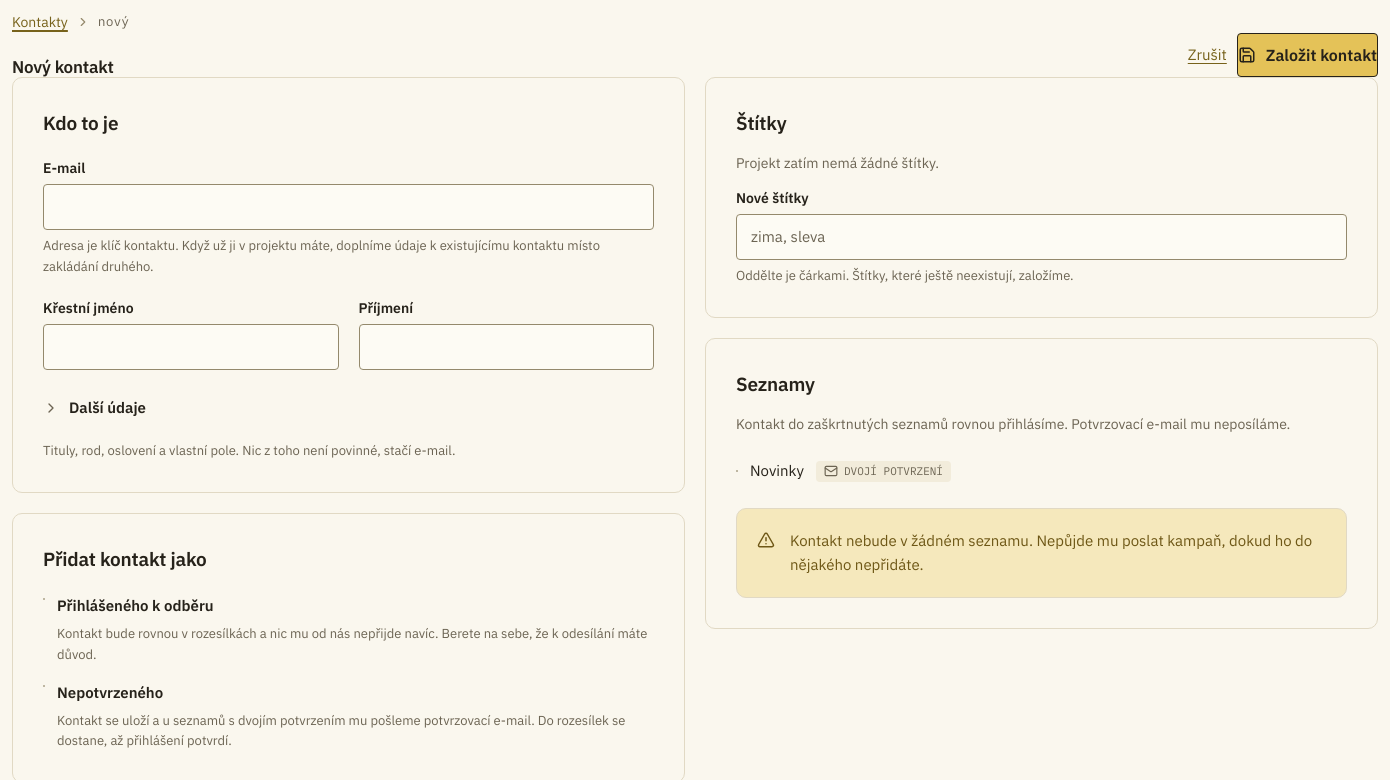
Test case: ContactForm › věta u seznamů se řídí zvolenou variantou
Expected: the text "rovnou přihlásíme" is shown, [736,415,1290,433]
Click the 2nd radio button named "Nepotvrzeného" at (44, 686), box [43,685,45,687]
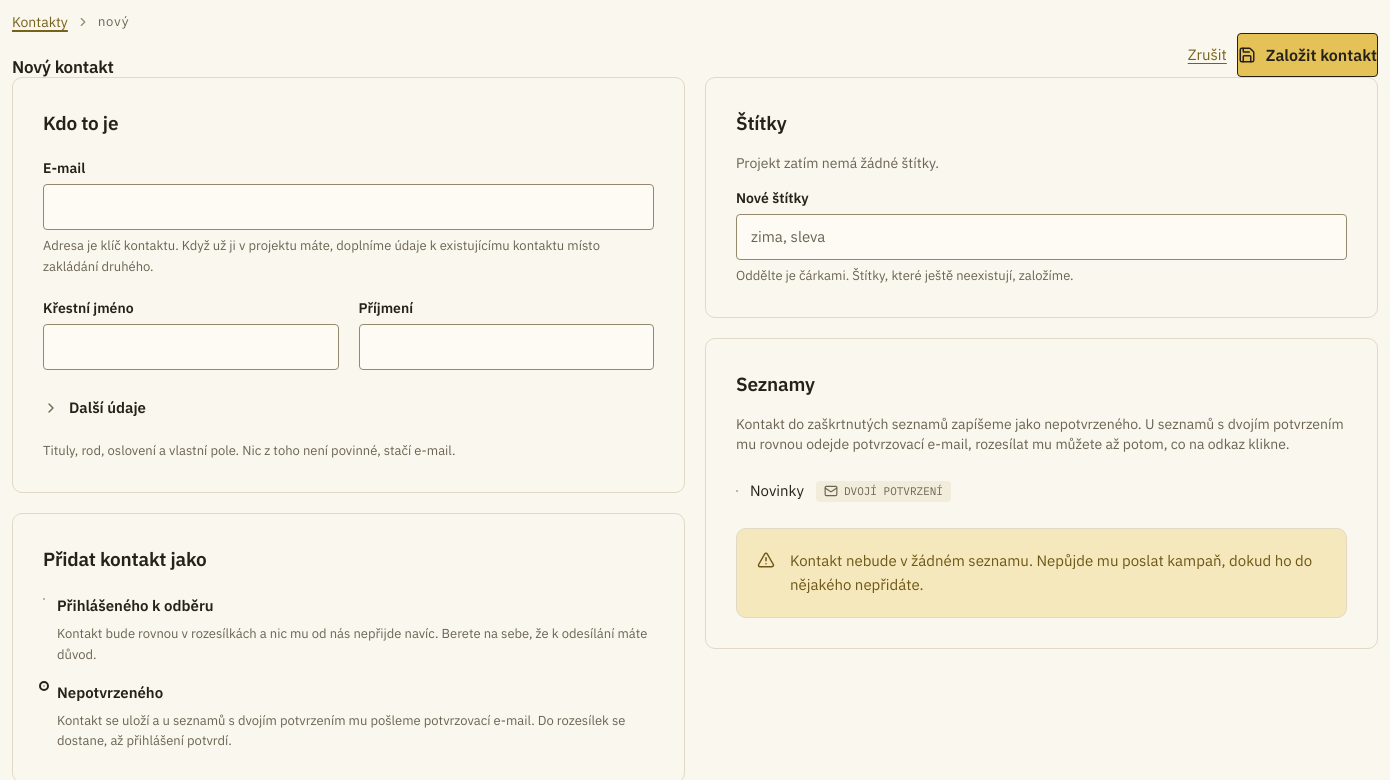
Expected: the text "zapíšeme jako nepotvrzeného" is shown, [736,415,1344,453]
